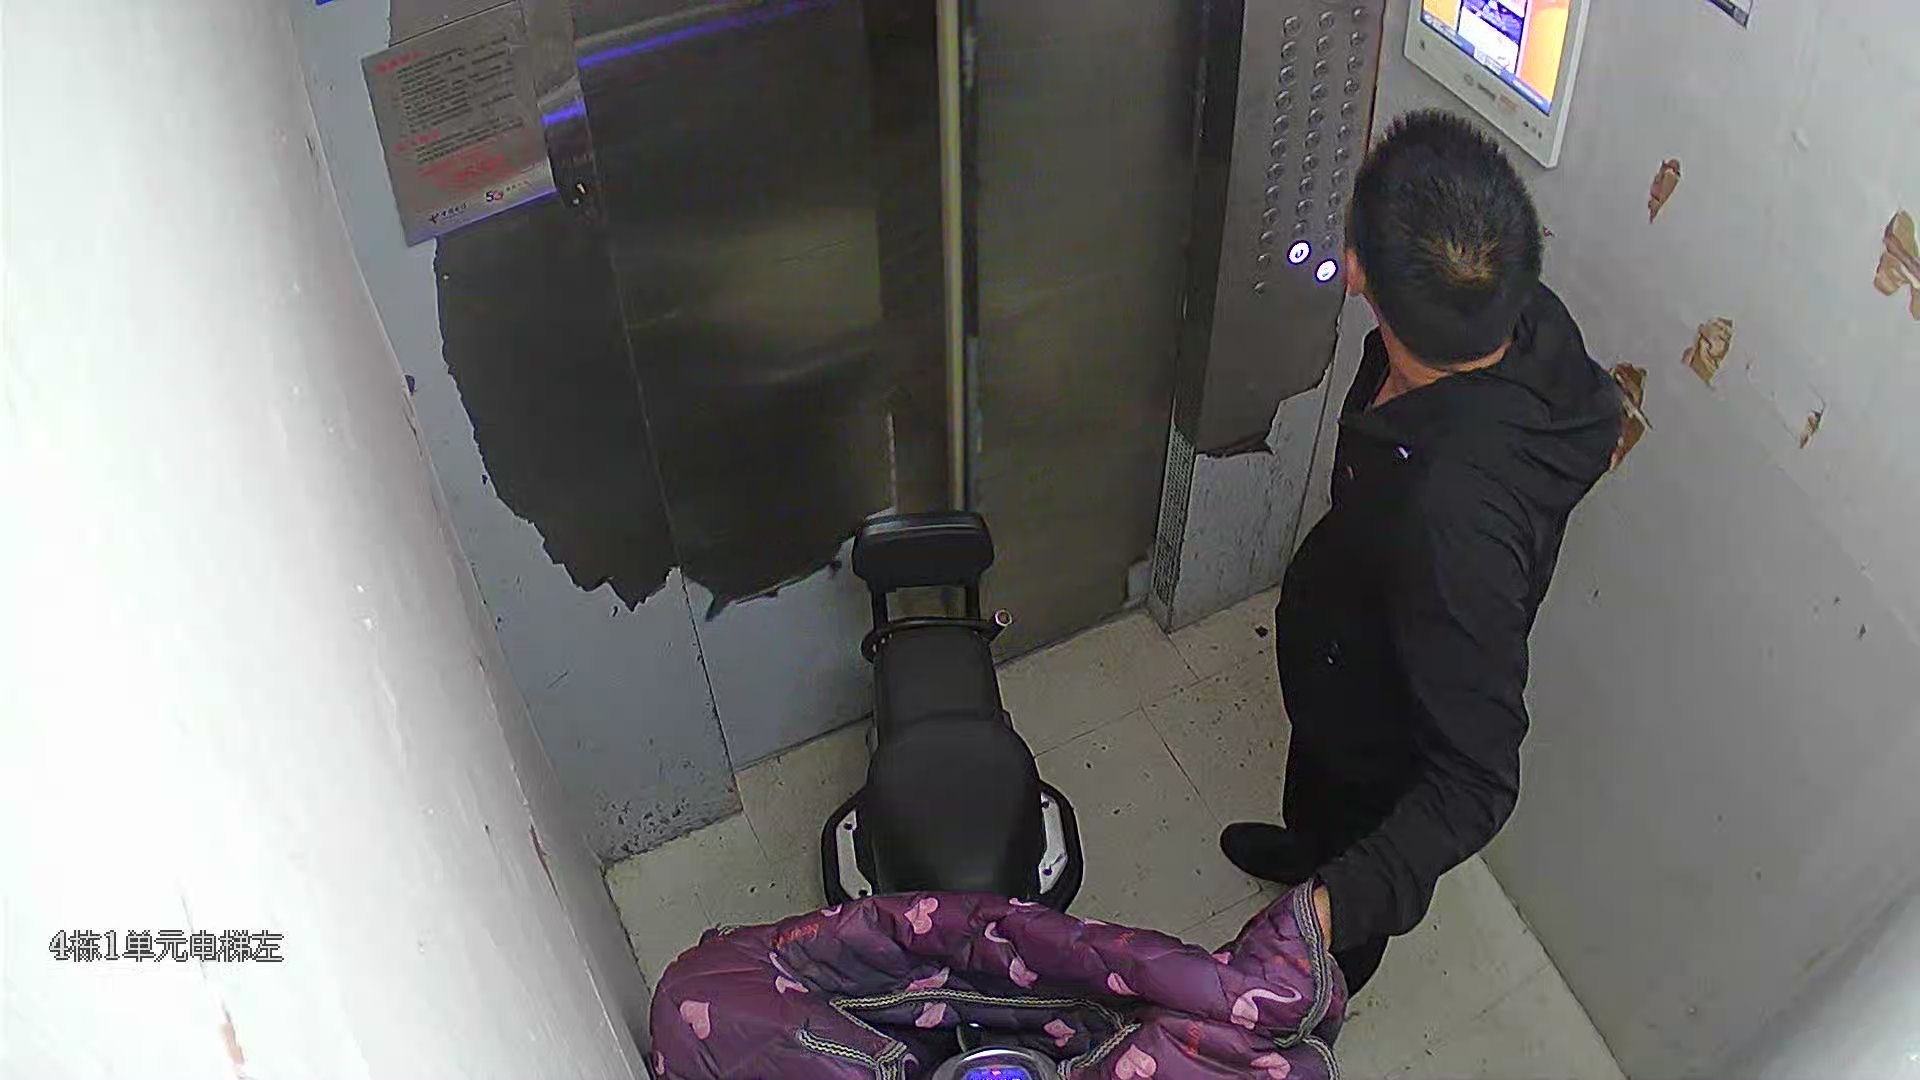Electric-bicycle: (818, 497, 1093, 1080)
